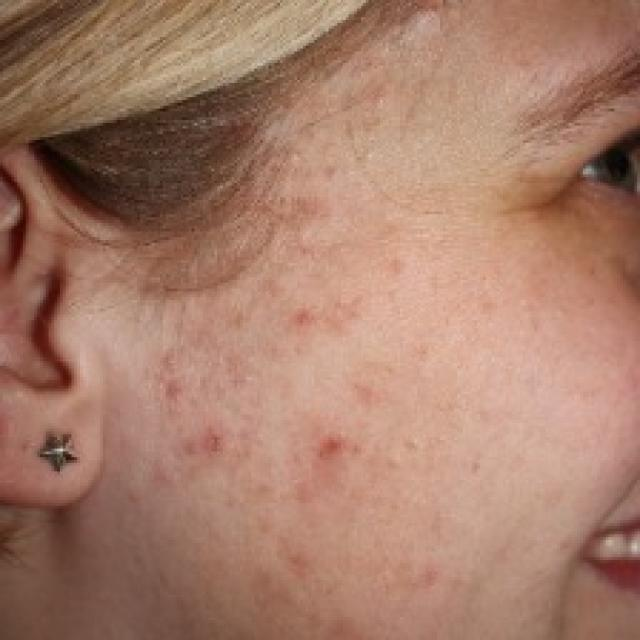Acne: (144, 1, 476, 612)
